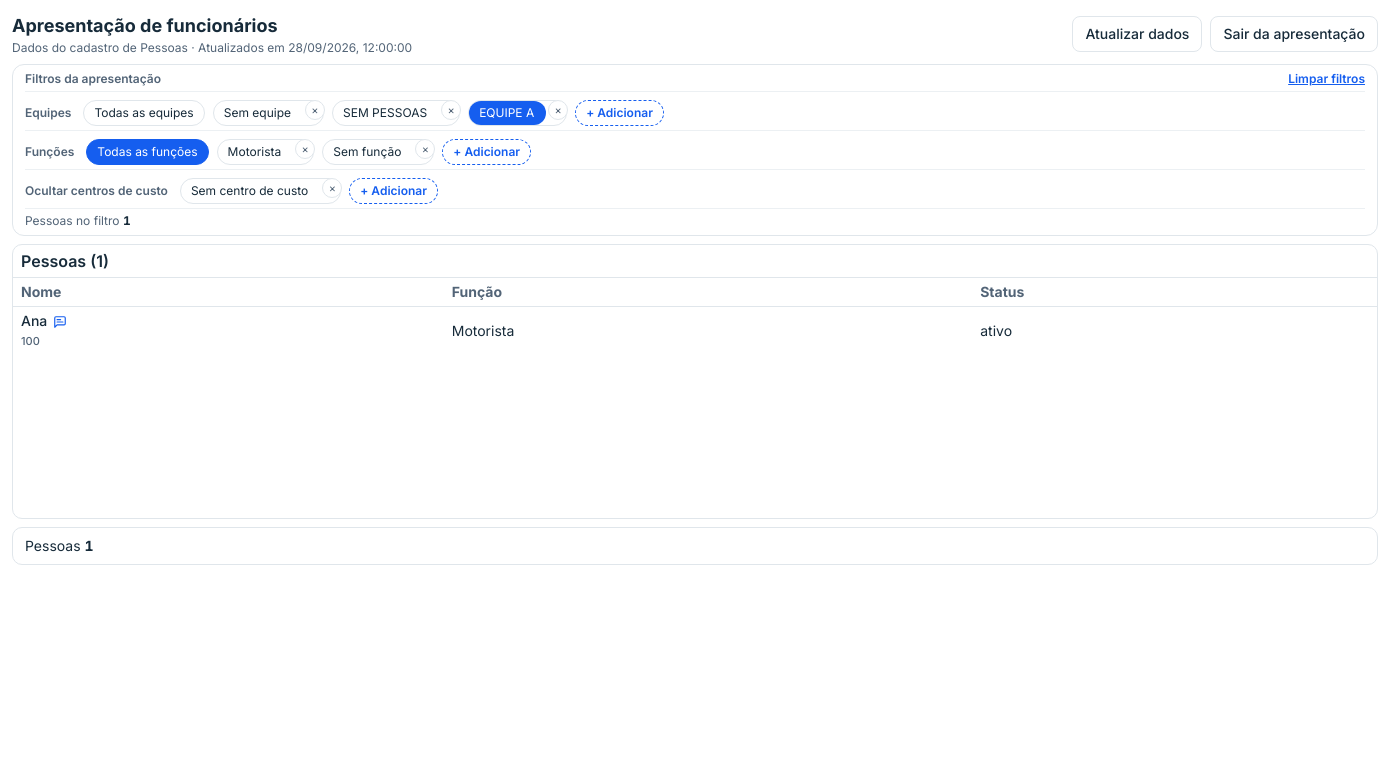
Test: tela de reunião › presents only employees across full width with team chips and operational notes
This screenshot has width=1390, height=780.
Step 1. Click the button with aria-label "Selecionar equipe SEM PESSOAS" → click(386, 113), box [333, 101, 439, 125]
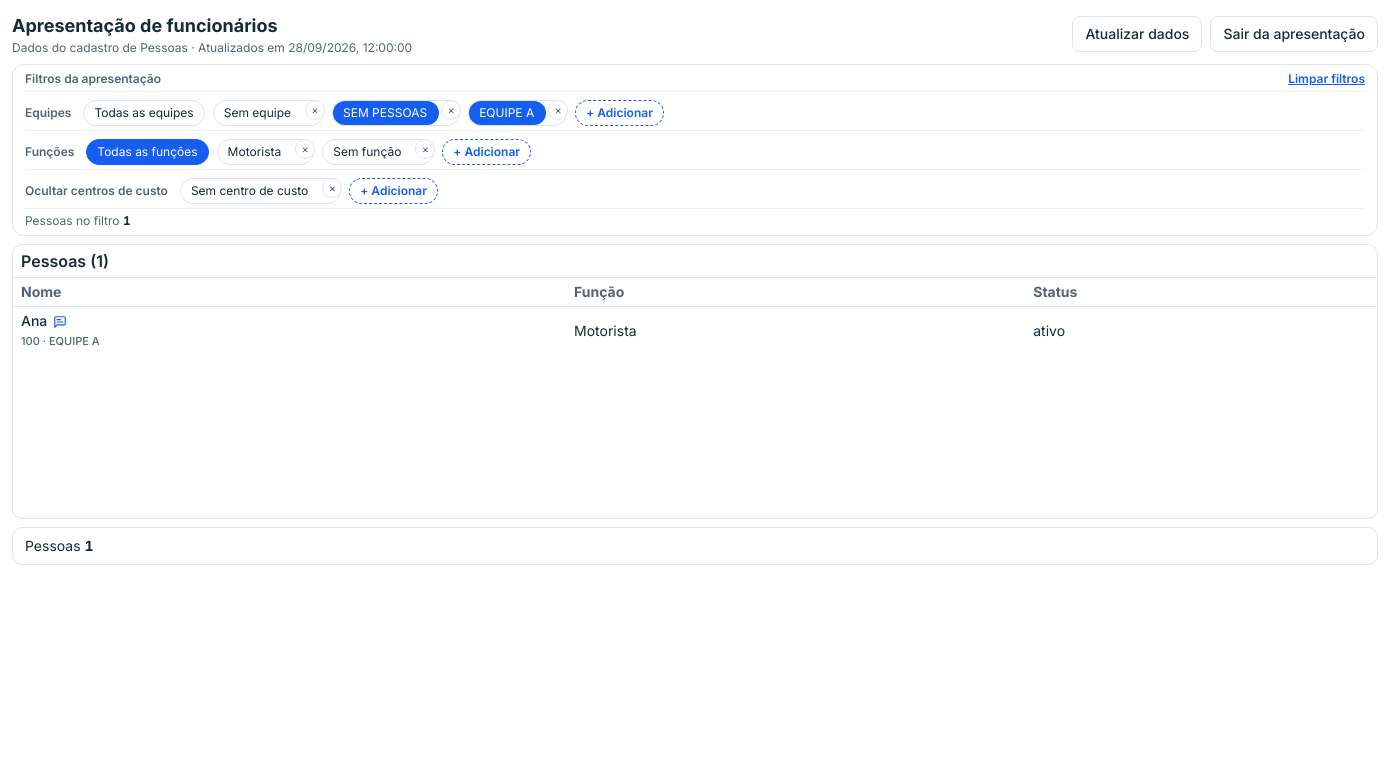
Expected: the button with aria-label "Retirar equipe SEM PESSOAS" is shown
Step 2. Click the button with aria-label "Retirar equipe SEM PESSOAS" → click(386, 113), box [333, 101, 439, 125]
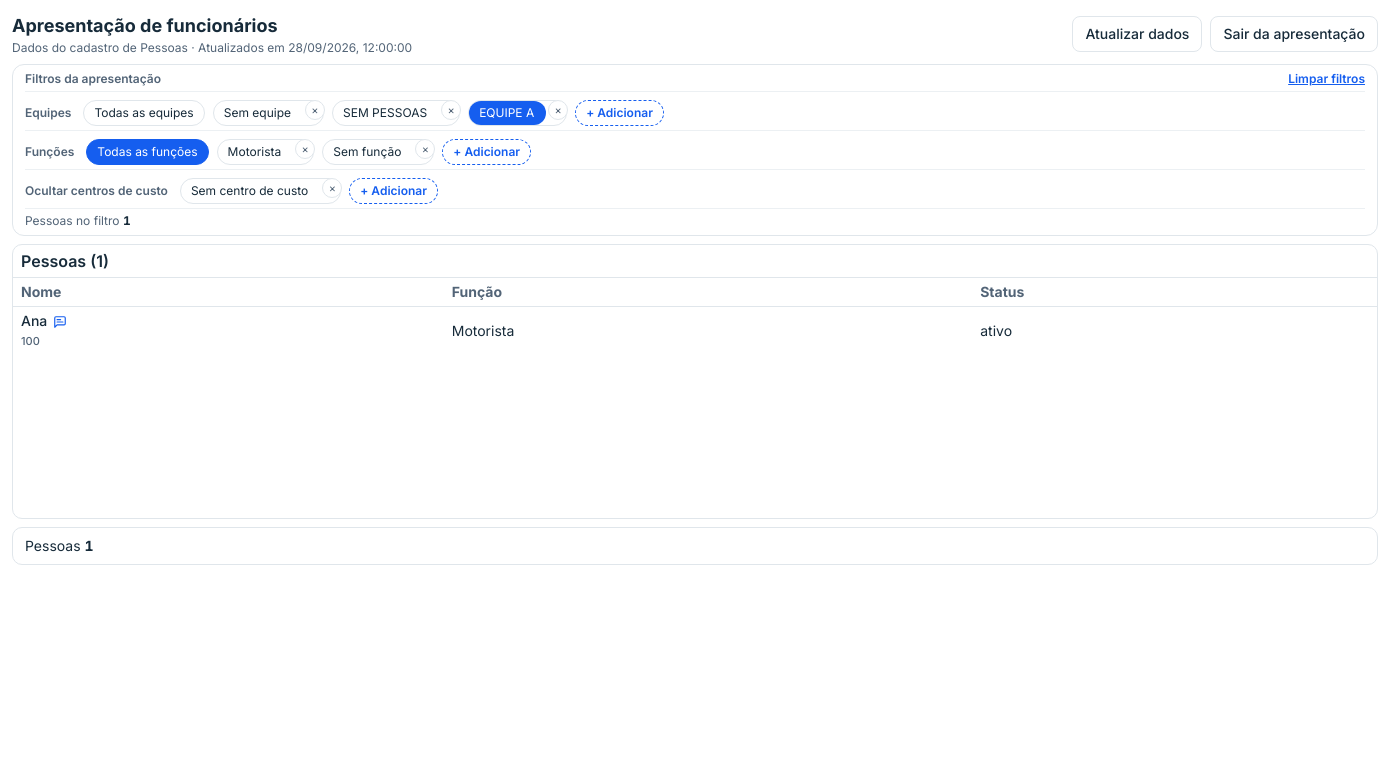
Expected: the heading "Apresentação de funcionários" is shown, [12, 15, 278, 36]
Expected: the element named "Pessoas da reunião" is shown, [12, 244, 1378, 519]
Step 3. Click the button "Todas as equipes" → click(144, 113), box [83, 100, 205, 126]
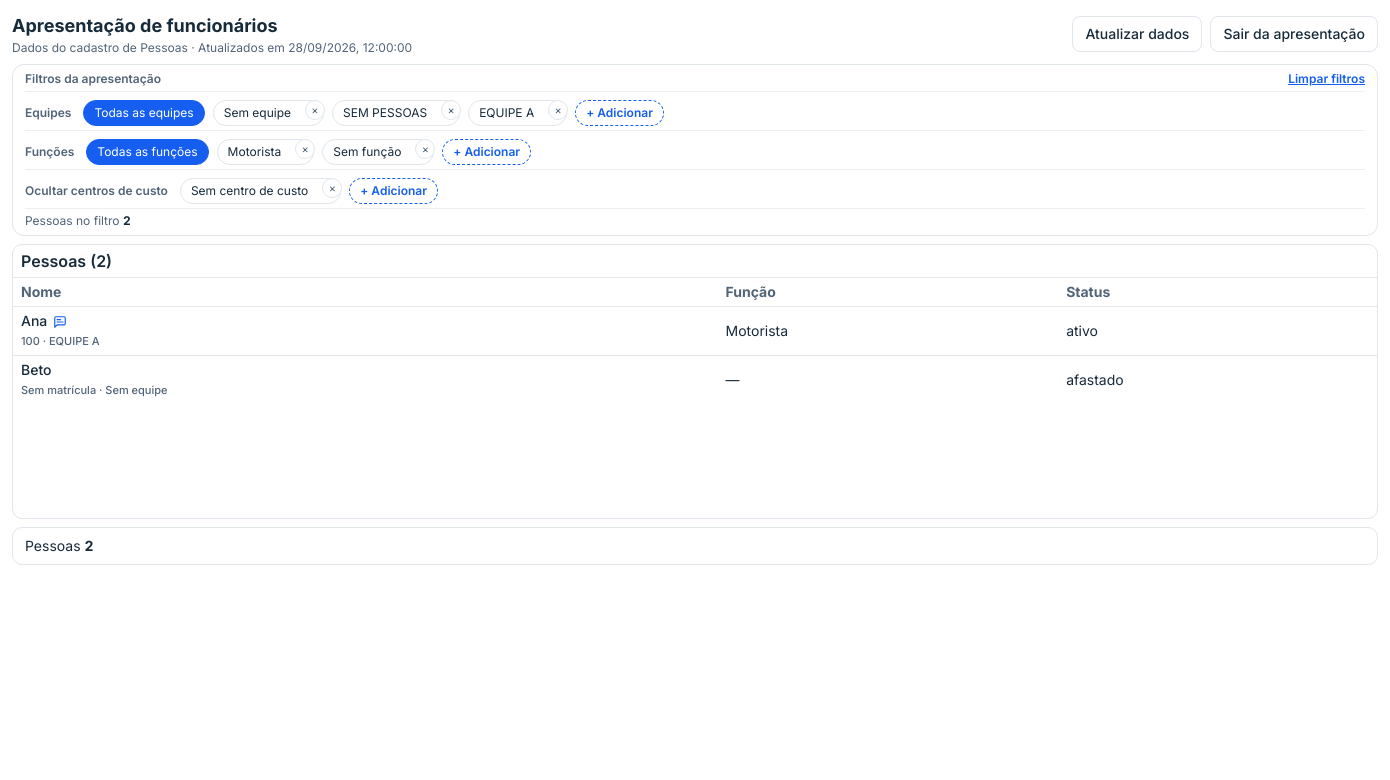
Step 4. Click the button with aria-label "Selecionar equipe Sem equipe" → click(258, 113), box [214, 101, 303, 125]
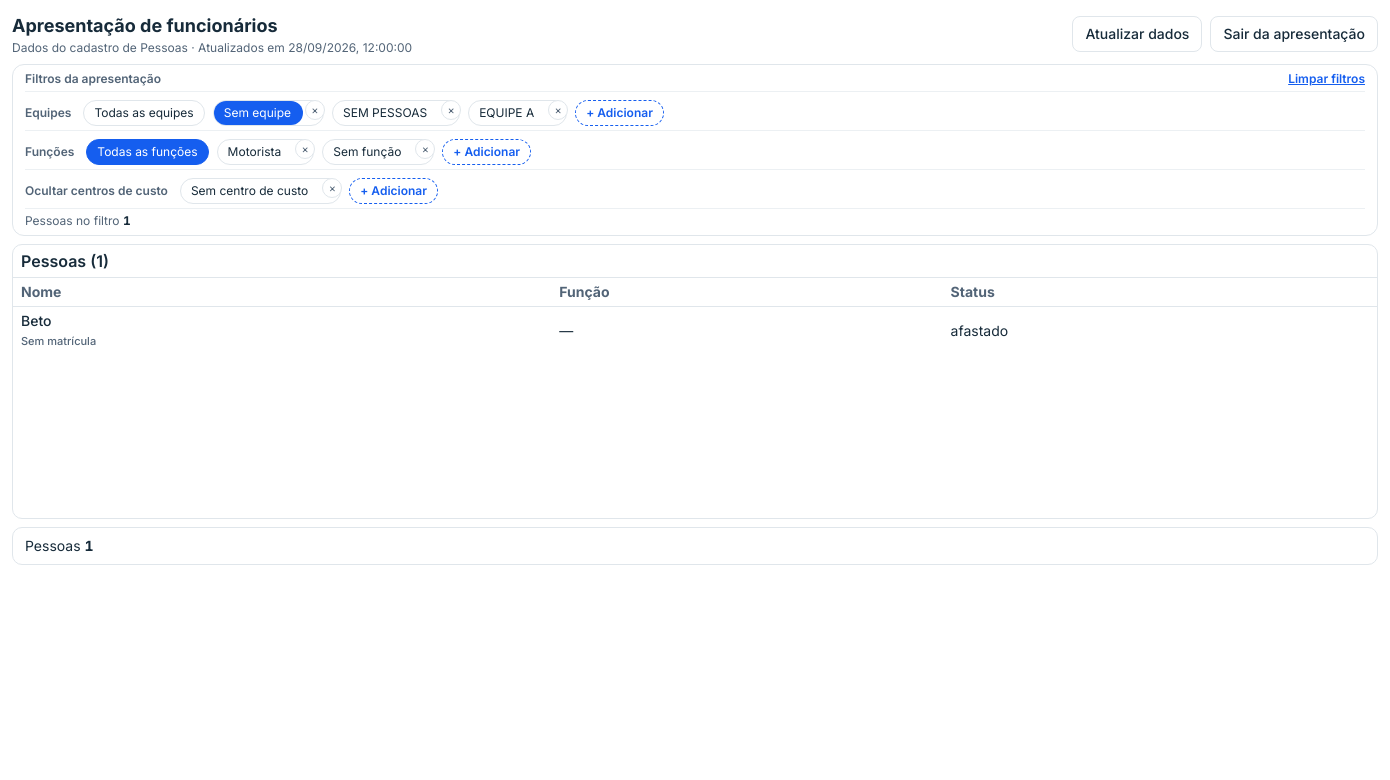
Expected: the text "Beto" is shown, [21, 312, 52, 329]
Expected: the text "Ana" is gone
